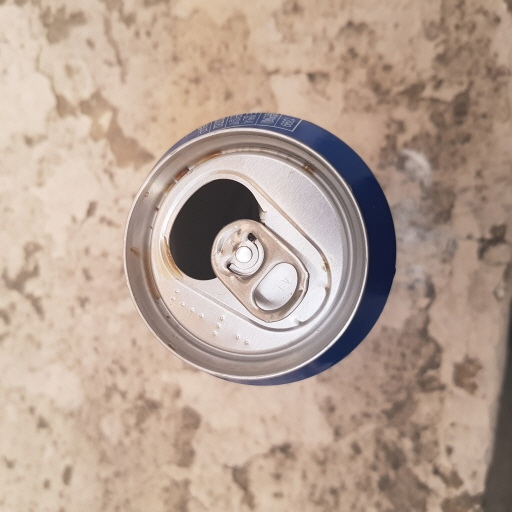Metal_0: (126, 111, 398, 389)
